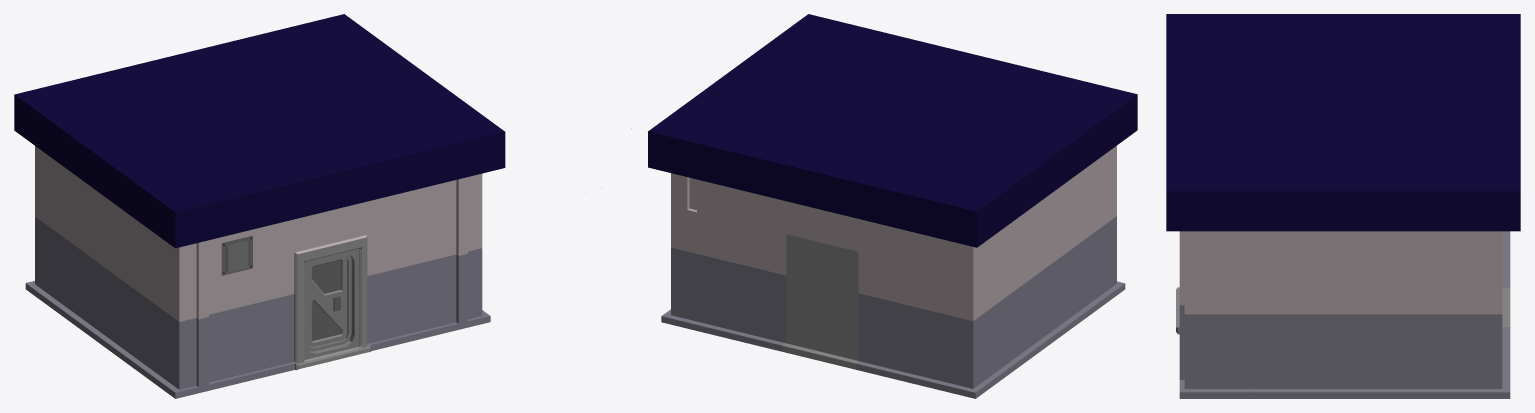
The model's file is RoofRoom.fbx.
The picture shows the model from 3 angles, left to right: view 1: azimuth 30°, elevation 25°; view 2: azimuth 150°, elevation 25°; view 3: azimuth 270°, elevation 25°; orthographic projection. The views are drawn at different scales.
Visible parts, largest first — view 1: Cube, polySurface2, Cylinder.046; view 2: Cube; view 3: Cube.
Boxes of the visible parts, x1,y1,x2,y2 form: Cube: (14, 14, 505, 398); polySurface2: (305, 248, 359, 359); Cylinder.046: (221, 235, 252, 275); Cube: (648, 14, 1137, 398); Cube: (1166, 14, 1520, 398).
Bounding box in the file's own units: 1869 × 748 × 1115.
